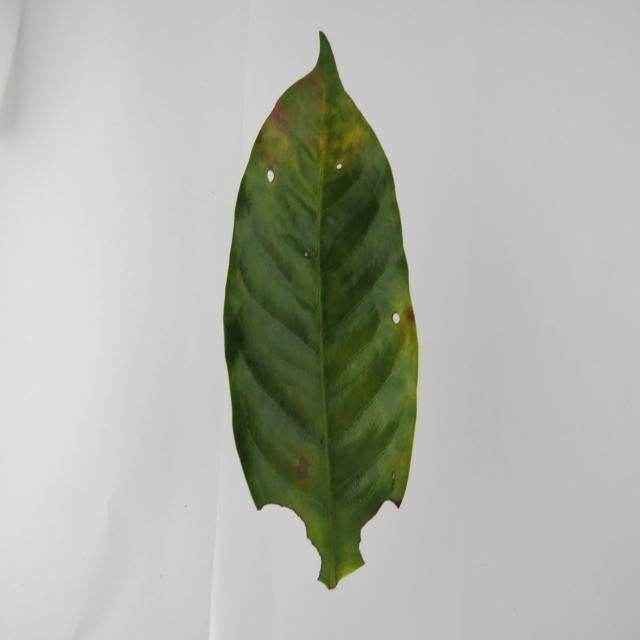DeficienciaNutricional-Fosforo: (224, 33, 418, 588)
